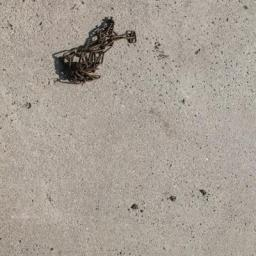FOD: (50, 17, 141, 90)
